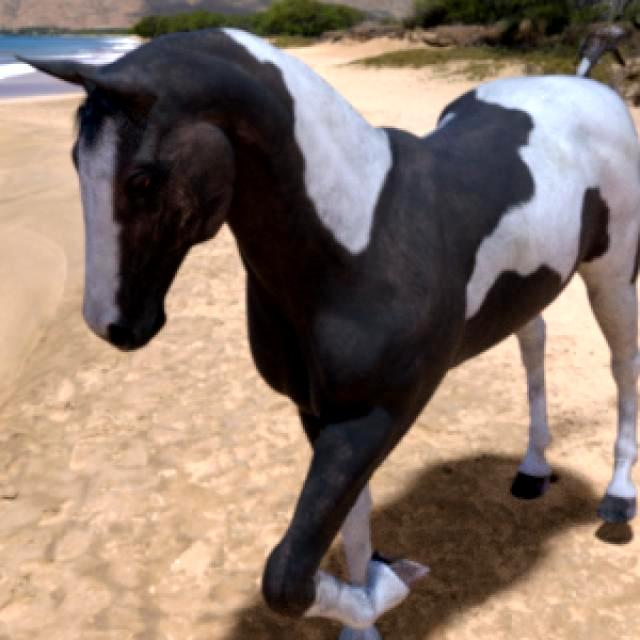horse: (28, 29, 640, 640), (578, 31, 614, 74)
